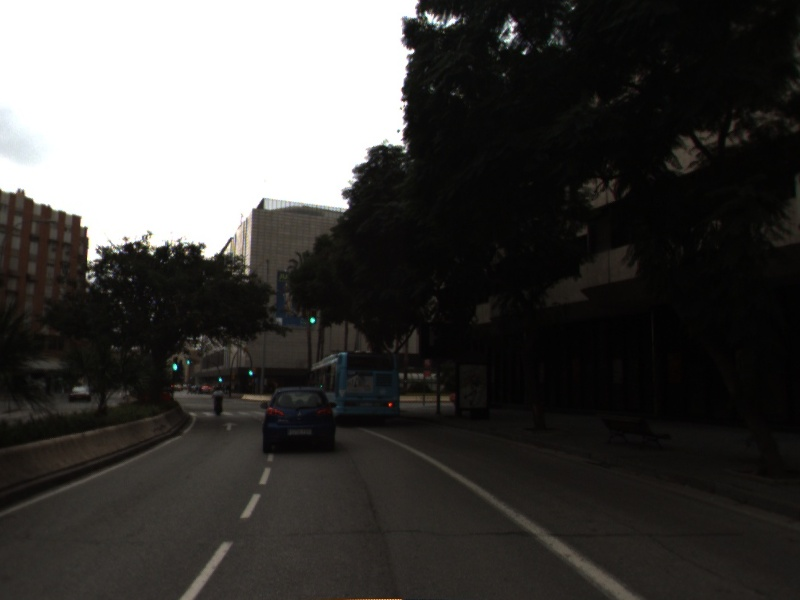STRAIGHT: (219, 420, 241, 433)
